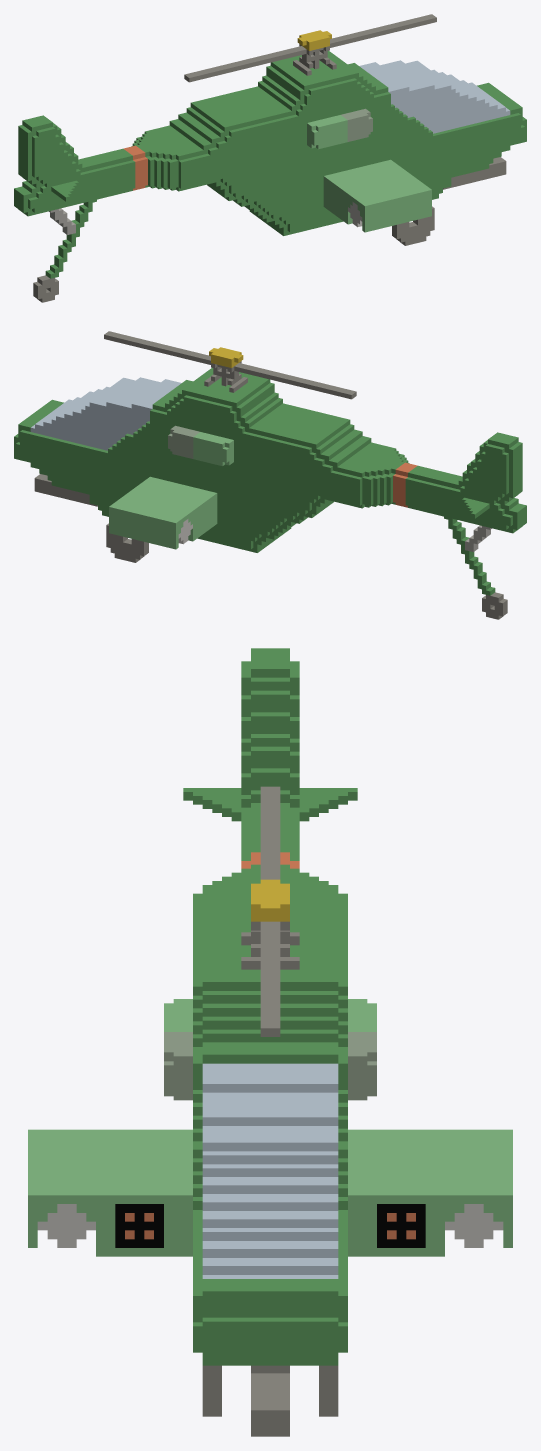
File: helicopter_f9fdd7c6.glb
The picture shows the model from 3 angles, top to bottom: view 1: azimuth 30°, elevation 25°; view 2: azimuth 150°, elevation 25°; view 3: azimuth 270°, elevation 25°; orthographic projection. The views are drawn at different scales.
Parts seen in each view (by area): view 1: VoxTransform; view 2: VoxTransform; view 3: VoxTransform.
Boxes of the visible parts, x1,y1,x2,y2 form: VoxTransform: [14, 14, 526, 302]; VoxTransform: [14, 331, 526, 619]; VoxTransform: [28, 648, 512, 1436].
Size of the model in its own units: 117 by 49 by 50.
